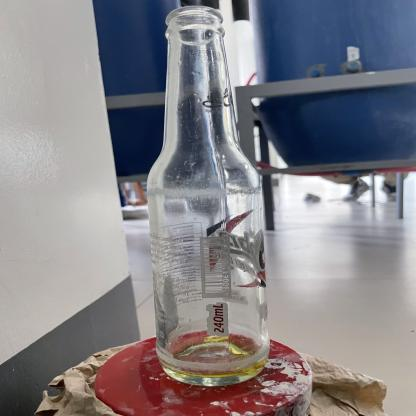Can: (139, 0, 276, 389)
